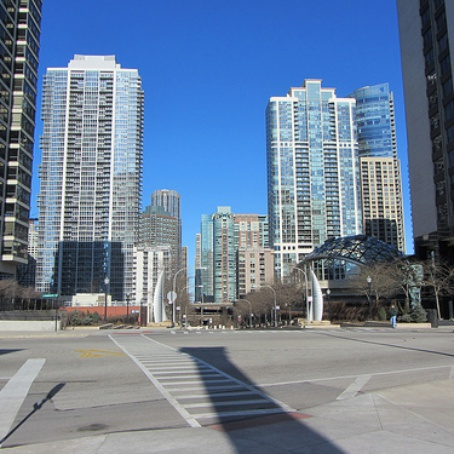building: (36, 55, 150, 333), (261, 79, 364, 285), (1, 1, 50, 287), (400, 1, 454, 254), (349, 83, 402, 274), (196, 208, 271, 296), (139, 187, 188, 319)
crosswalk: (102, 325, 298, 429)
sky: (61, 17, 390, 195)
street: (4, 331, 454, 454)
